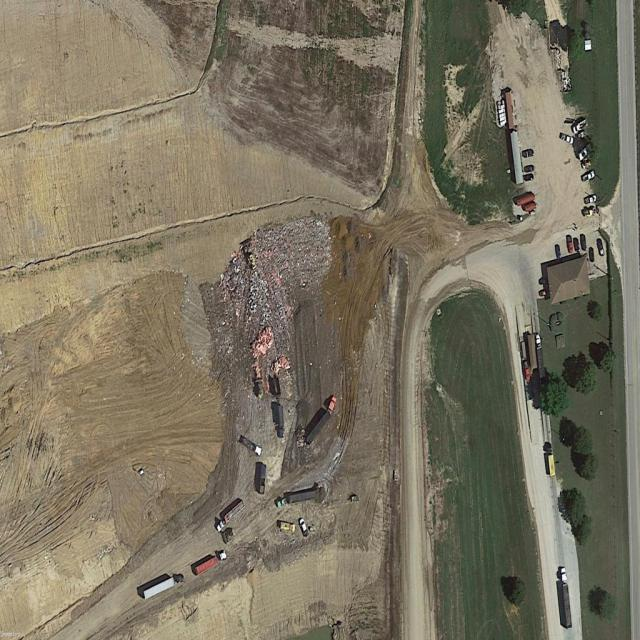dump_site: (195, 201, 356, 393)
